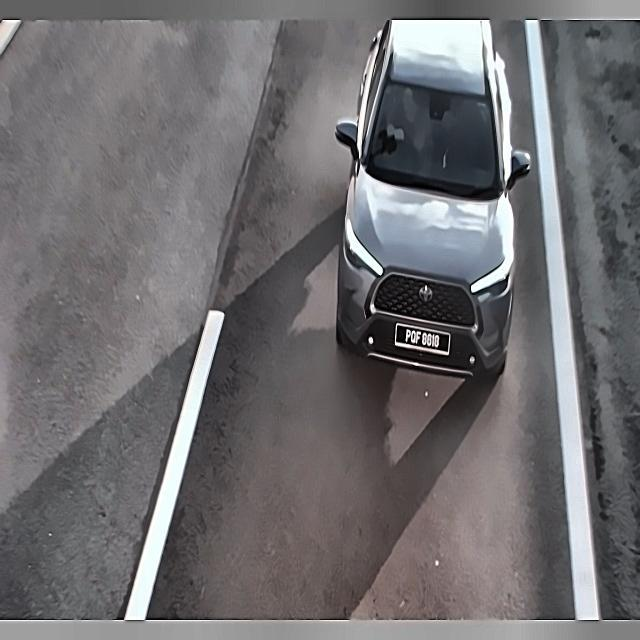car: (390, 316, 454, 362)
